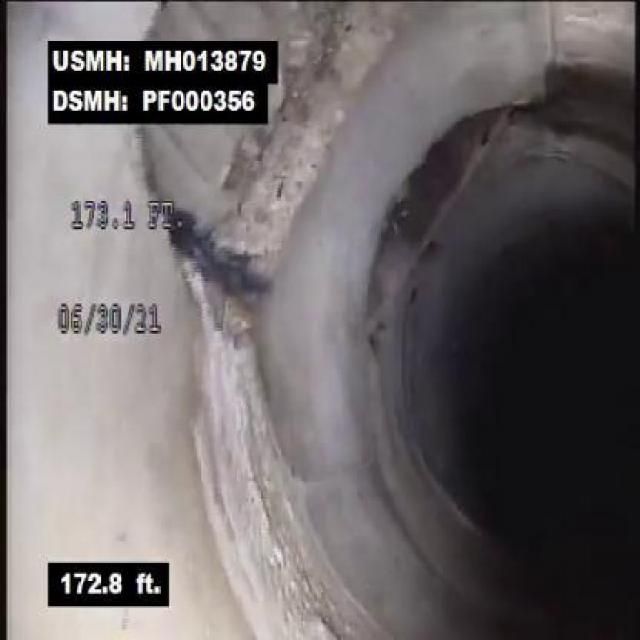Utility intrusion: (342, 86, 520, 345)
